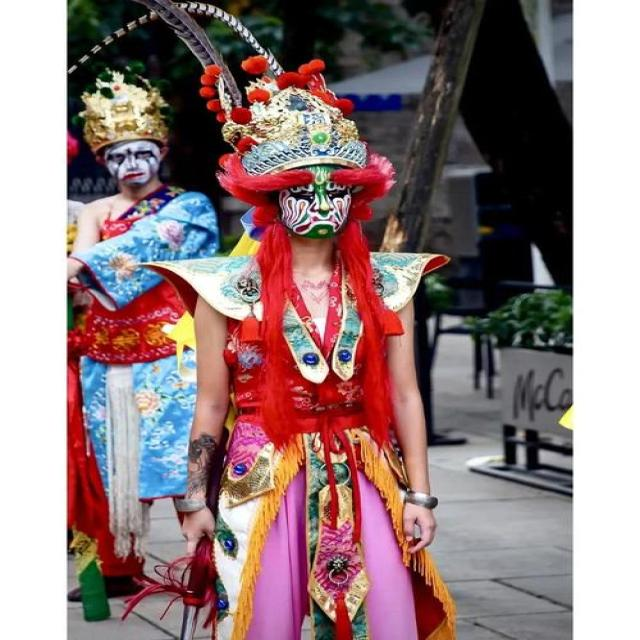Reeves-s Pheasant: (59, 0, 289, 84), (126, 0, 245, 103)
